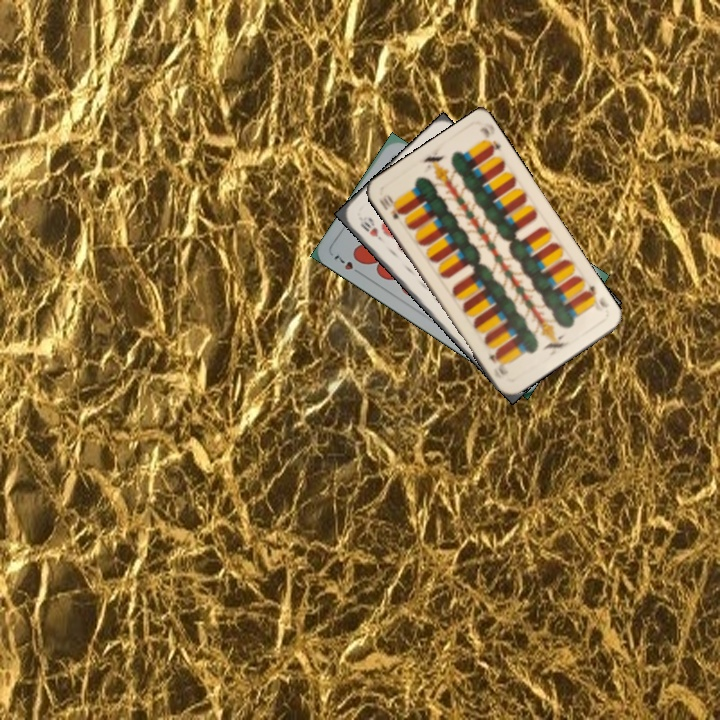E10: (375, 190, 406, 222), (580, 280, 611, 311)
H10: (356, 217, 386, 245)
H7: (330, 251, 365, 278)
